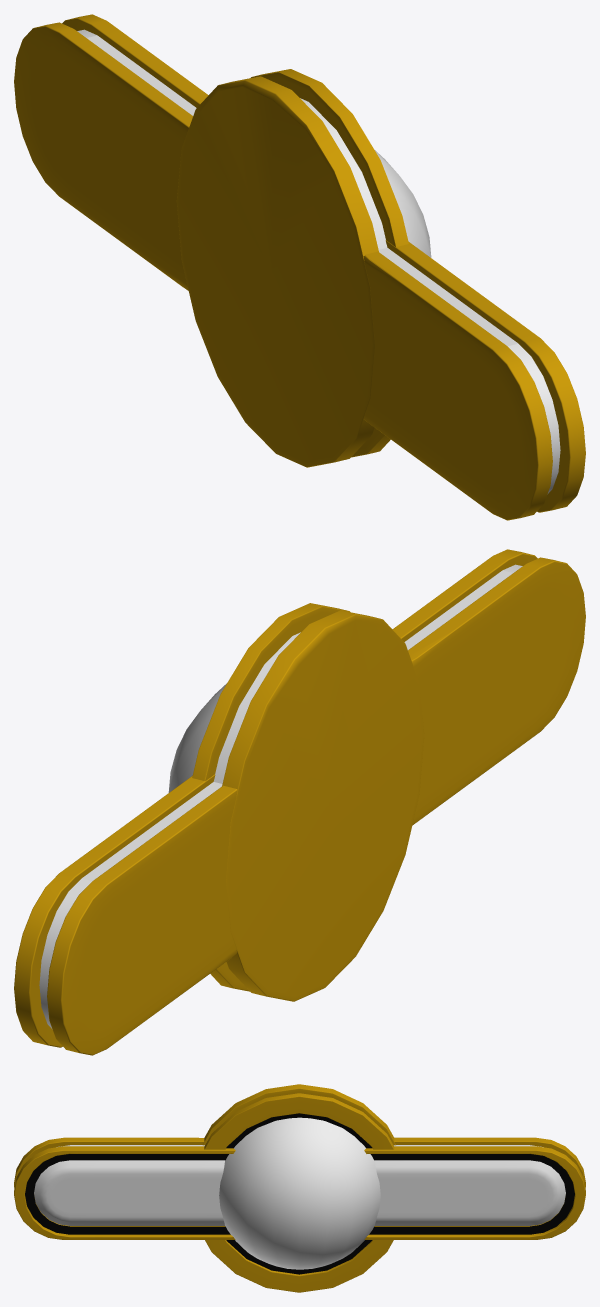
The model's file is room_sign_04.fbx.
3 views of the same model, one above another, from view 1: azimuth 30°, elevation 25°; view 2: azimuth 150°, elevation 25°; view 3: azimuth 270°, elevation 25° (orthographic). The views are drawn at different scales.
Visible parts, largest first — view 1: pSphere7; view 2: pSphere7; view 3: pSphere7.
Part boxes in pixels (left/top/right/bottom): pSphere7: left=14, top=14, right=585, bottom=520; pSphere7: left=14, top=549, right=585, bottom=1055; pSphere7: left=14, top=1084, right=585, bottom=1292.
Bounding box in the file's own units: 0.8514 × 2.07 × 5.45.
